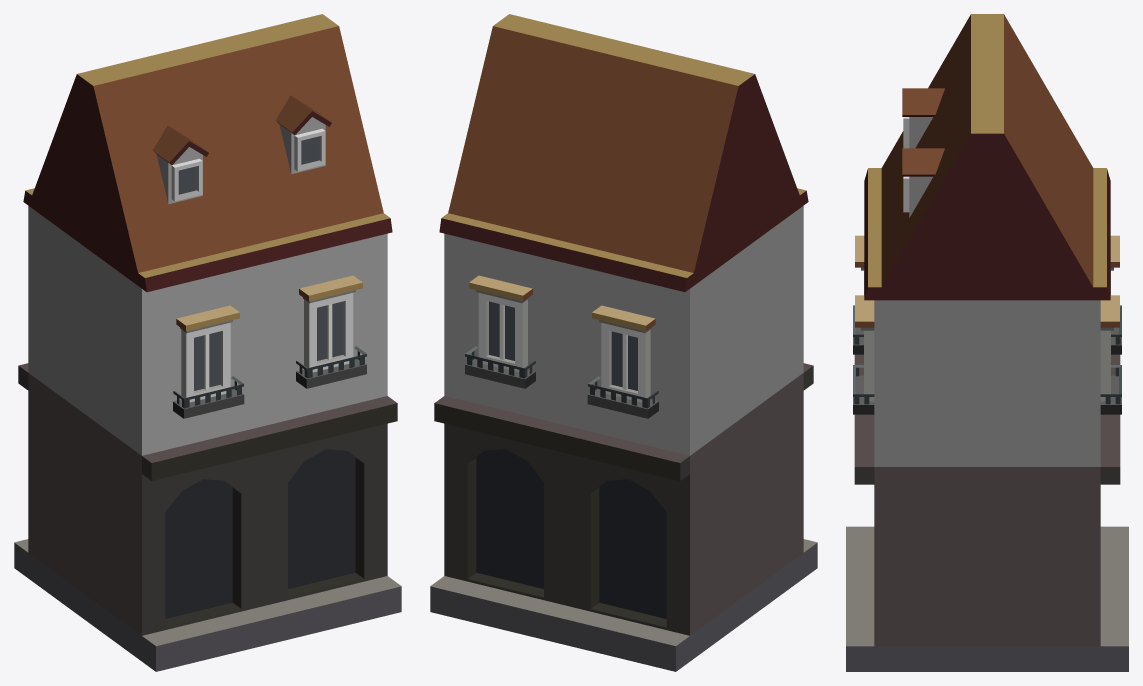
The model's file is TB_CITY_BD_N_Line_2_C.FBX.
3 renders of one model, left to right at view 1: azimuth 30°, elevation 25°; view 2: azimuth 150°, elevation 25°; view 3: azimuth 270°, elevation 25°, orthographic.
Visible parts, largest first — view 1: TB_CITY_BD_N_Line_2_C; view 2: TB_CITY_BD_N_Line_2_C; view 3: TB_CITY_BD_N_Line_2_C.
Boxes of the visible parts, x1,y1,x2,y2 form: TB_CITY_BD_N_Line_2_C: [14, 14, 401, 671]; TB_CITY_BD_N_Line_2_C: [430, 14, 817, 671]; TB_CITY_BD_N_Line_2_C: [846, 14, 1128, 671].
Size of the model in its own units: 7.99 by 16.78 by 7.99.
